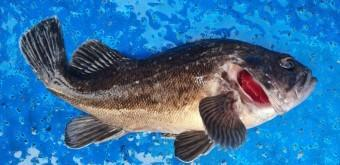fish: (18, 17, 318, 163)
